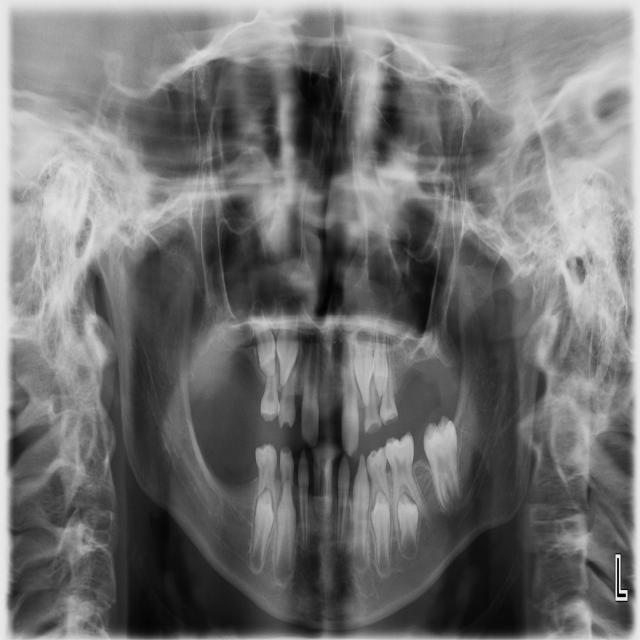mandibula: (97, 230, 542, 625)
